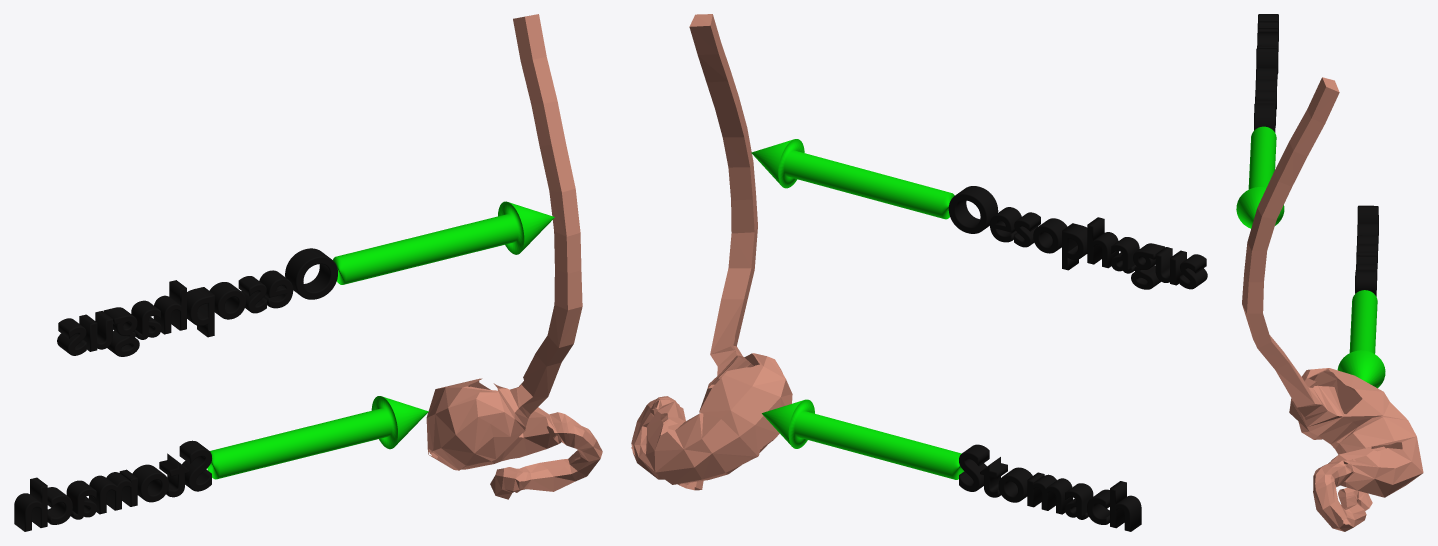
Rendered from stomach oesophagus.gltf.
The picture shows the model from 3 angles, left to right: view 1: azimuth 30°, elevation 25°; view 2: azimuth 150°, elevation 25°; view 3: azimuth 270°, elevation 25°; orthographic projection. The views are drawn at different scales.
Visible parts, largest first — view 1: node_id32.001, Text.011, Text.005, Cylinder.011, Cylinder.005; view 2: node_id32.001, Text.011, Text.005, Cylinder.011, Cylinder.005; view 3: node_id32.001, Cylinder.005, Text.011, Cylinder.011, Text.005.
Boxes of the visible parts, <box> form: node_id32.001: <box>426,14,602,499</box>; Text.011: <box>57,248,337,356</box>; Text.005: <box>14,440,211,531</box>; Cylinder.011: <box>333,201,554,284</box>; Cylinder.005: <box>207,396,428,479</box>; node_id32.001: <box>631,14,792,490</box>; Text.011: <box>948,186,1207,289</box>; Text.005: <box>959,444,1141,531</box>; Cylinder.011: <box>751,139,954,219</box>; Cylinder.005: <box>762,399,964,479</box>; node_id32.001: <box>1242,77,1423,531</box>; Cylinder.005: <box>1337,290,1385,388</box>; Text.011: <box>1254,14,1278,132</box>; Cylinder.011: <box>1236,126,1284,228</box>; Text.005: <box>1355,205,1378,296</box>.
Bounding box in the file's own units: 0.8439 × 0.7006 × 0.2726.
